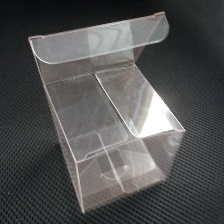plastic_box: (21, 5, 192, 218)
